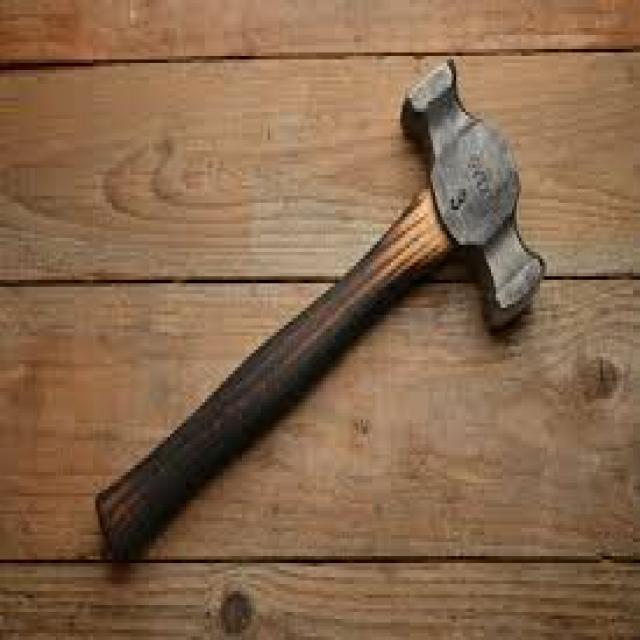hammer: (92, 54, 550, 572)
